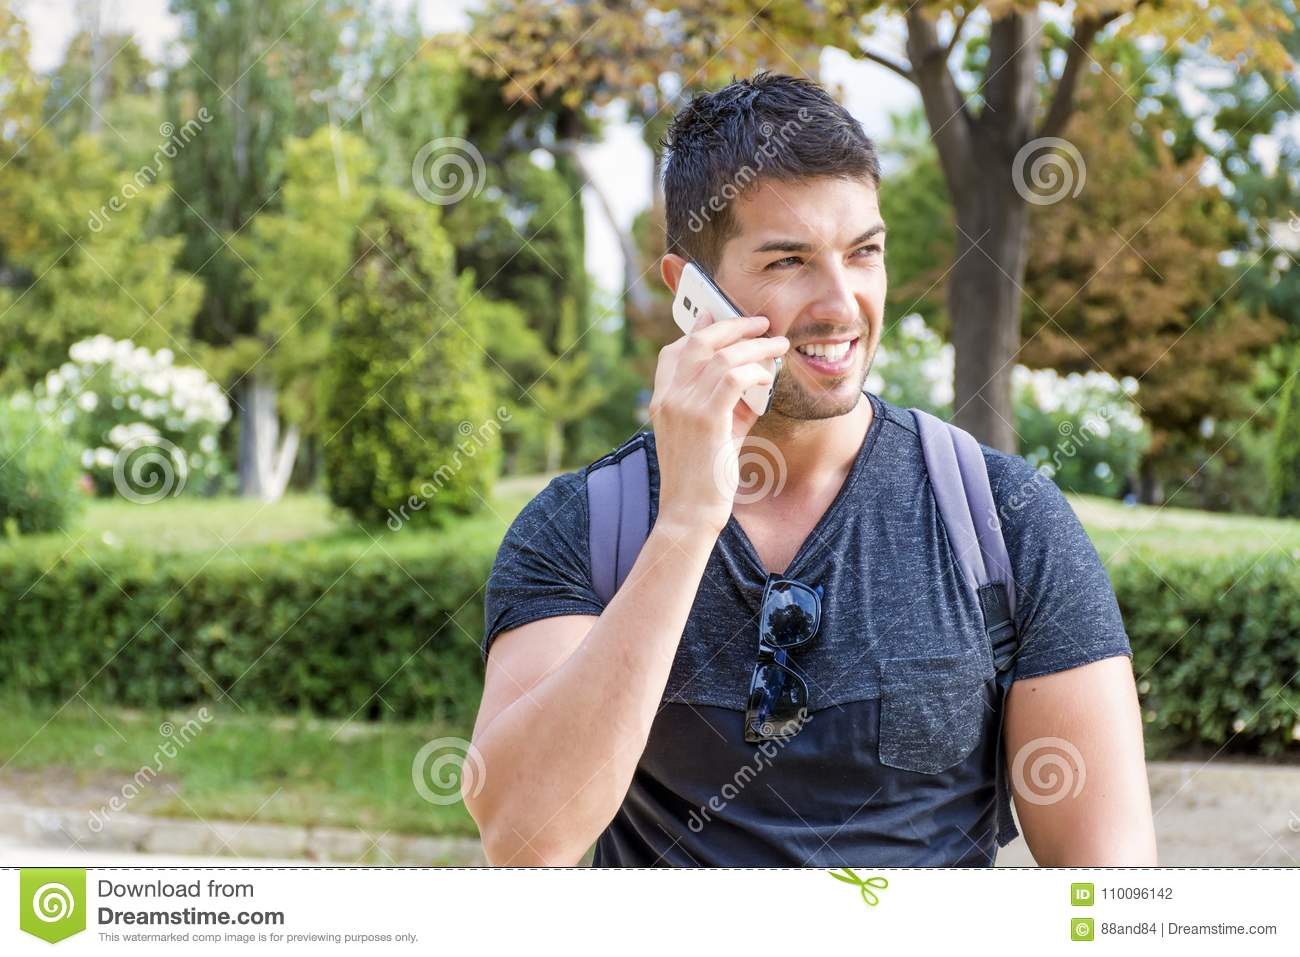phone: (671, 262, 783, 423)
talk: (649, 212, 890, 540)
